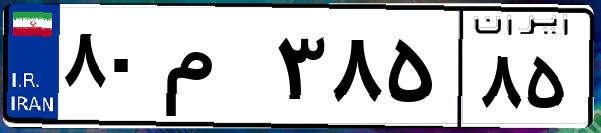0: (110, 28, 158, 98)
3: (270, 28, 330, 110)
5: (385, 28, 445, 110), (525, 38, 570, 115)
8: (330, 28, 385, 110), (57, 26, 110, 100), (475, 38, 525, 113)
م: (158, 20, 270, 120)
